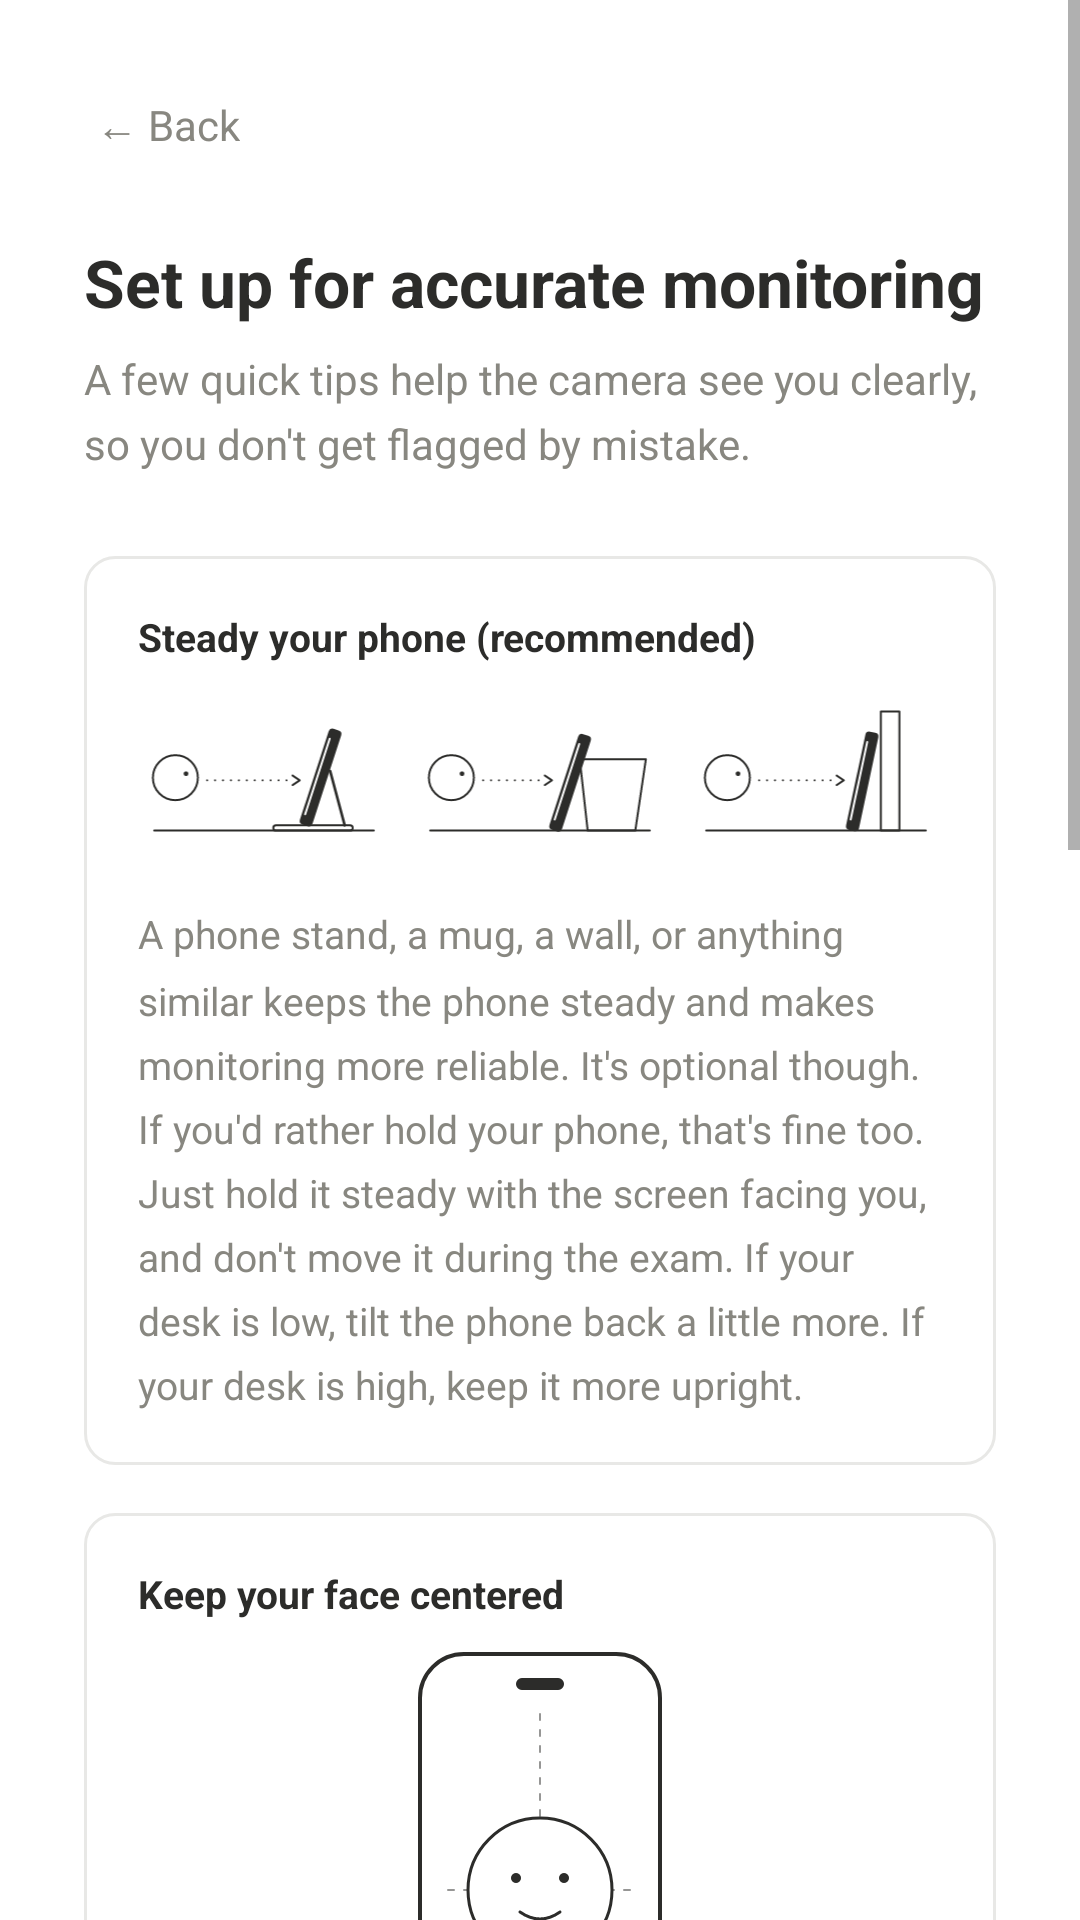

Screen size 1080 x 1920. Icon name, then its center in pixels as [x,y]:
Phone against a wall: [815,771]
Phone on a mug: [539,783]
Phone on a stand: [263,780]
